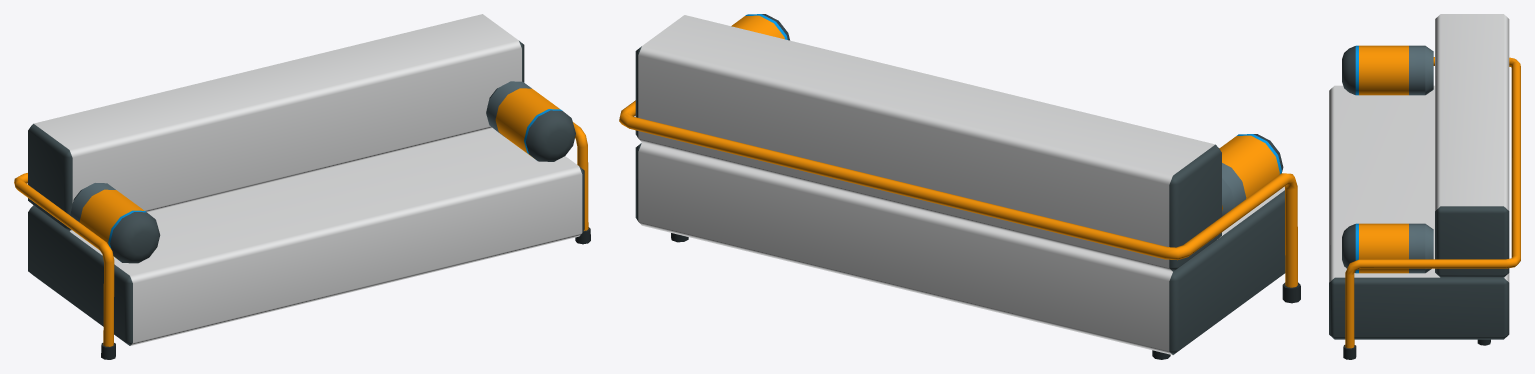
Rendered from Sofa_008.fbx.
3 views of the same model, side by side, from view 1: azimuth 30°, elevation 25°; view 2: azimuth 150°, elevation 25°; view 3: azimuth 270°, elevation 25° (orthographic). The views are drawn at different scales.
Visible parts, largest first — view 1: Sofa_008; view 2: Sofa_008; view 3: Sofa_008.
Boxes of the visible parts, <box> form: Sofa_008: <box>14,14,590,359</box>; Sofa_008: <box>619,14,1300,359</box>; Sofa_008: <box>1329,14,1520,359</box>.
Size of the model in its own units: 259 by 101 by 84.24.
